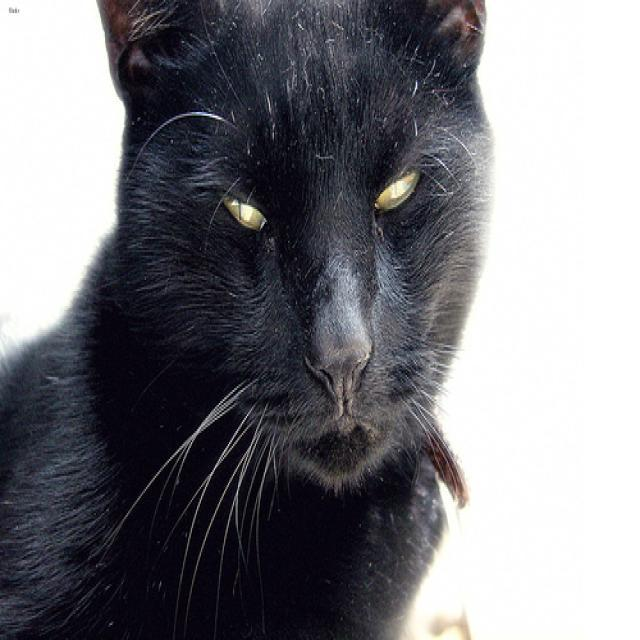Bombay: (93, 0, 491, 483)
